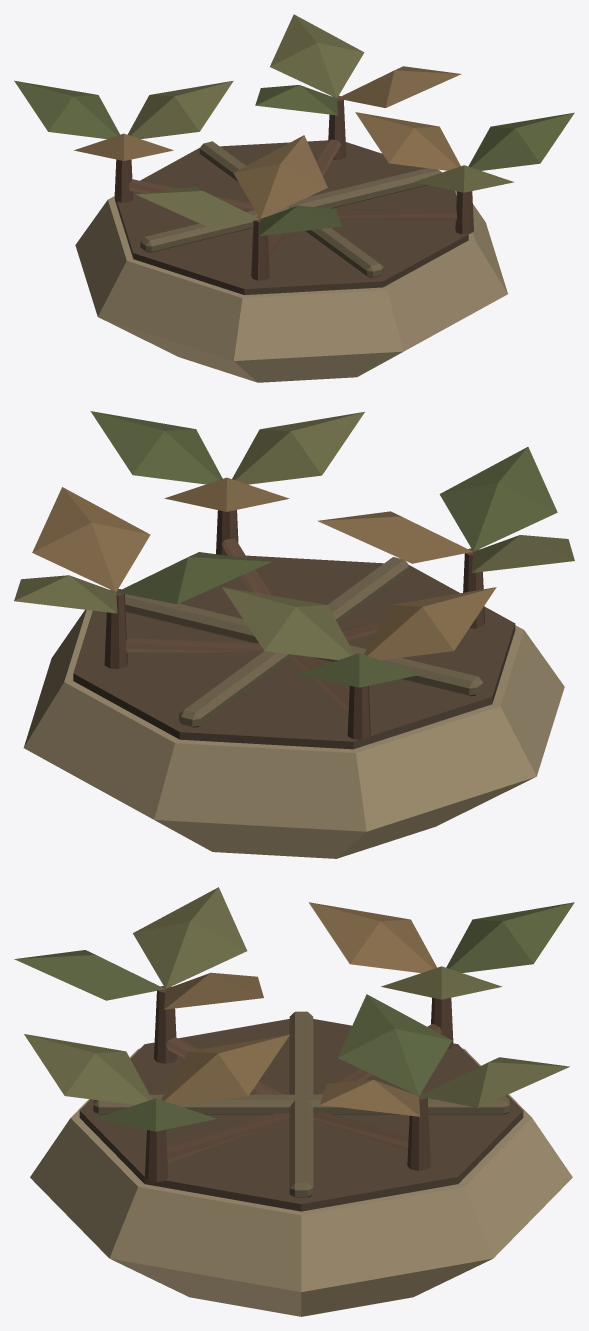
File: wild_strawberry_packed_autumn.glb
The picture shows the model from 3 angles, top to bottom: view 1: azimuth 30°, elevation 25°; view 2: azimuth 150°, elevation 25°; view 3: azimuth 270°, elevation 25°; orthographic projection. The views are drawn at different scales.
Visible parts, largest first — view 1: wild_strawberry_packed_autumn; view 2: wild_strawberry_packed_autumn; view 3: wild_strawberry_packed_autumn.
Part boxes in pixels (left/top/right/bottom): wild_strawberry_packed_autumn: left=14, top=14, right=574, bottom=382; wild_strawberry_packed_autumn: left=14, top=411, right=574, bottom=858; wild_strawberry_packed_autumn: left=14, top=887, right=574, bottom=1316.
Size of the model in its own units: 1.29 by 0.61 by 1.24.
